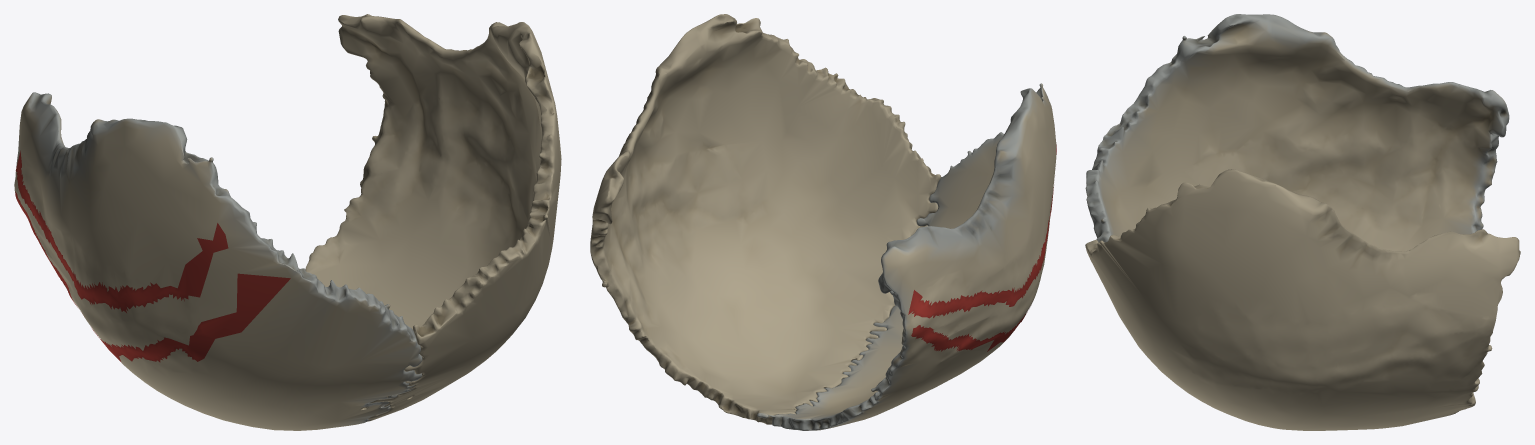
Rendered from os-parietale.glb.
3 views of the same model, side by side, from view 1: azimuth 30°, elevation 25°; view 2: azimuth 150°, elevation 25°; view 3: azimuth 270°, elevation 25° (orthographic). The views are drawn at different scales.
Visible parts, largest first — view 1: FJ3274, FJ3380, os-parietale__tuber-margo-sagittalis, origo__lineae-temporales__m-temporalis, os-parietale__angulus-sphenoidalis-pterion, os-parietale__lineae-temporales; view 2: FJ3274, FJ3380, os-parietale__tuber-margo-sagittalis, os-parietale__angulus-sphenoidalis-pterion, origo__lineae-temporales__m-temporalis, os-parietale__lineae-temporales; view 3: FJ3274, FJ3380, os-parietale__angulus-sphenoidalis-pterion.
Part boxes in pixels (x1=…): FJ3274: x1=305, y1=14, x2=561, y2=421; FJ3380: x1=14, y1=93, x2=422, y2=421; os-parietale__tuber-margo-sagittalis: x1=62, y1=272, x2=422, y2=430; origo__lineae-temporales__m-temporalis: x1=15, y1=150, x2=290, y2=362; os-parietale__angulus-sphenoidalis-pterion: x1=19, y1=92, x2=134, y2=169; os-parietale__lineae-temporales: x1=15, y1=151, x2=290, y2=361; FJ3274: x1=590, y1=14, x2=941, y2=424; FJ3380: x1=757, y1=83, x2=1056, y2=430; os-parietale__tuber-margo-sagittalis: x1=804, y1=200, x2=1045, y2=430; os-parietale__angulus-sphenoidalis-pterion: x1=882, y1=110, x2=1028, y2=293; origo__lineae-temporales__m-temporalis: x1=908, y1=144, x2=1056, y2=351; os-parietale__lineae-temporales: x1=908, y1=143, x2=1056, y2=351; FJ3274: x1=1085, y1=169, x2=1520, y2=430; FJ3380: x1=1085, y1=14, x2=1509, y2=251; os-parietale__angulus-sphenoidalis-pterion: x1=1278, y1=16, x2=1508, y2=121.
Size of the model in its own units: 151 by 118 by 147.
